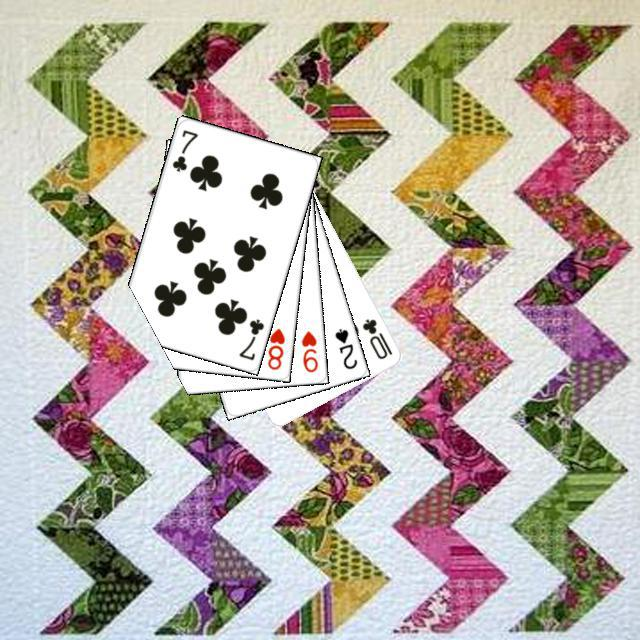10c: (357, 314, 394, 361)
2s: (330, 324, 359, 371)
7c: (167, 125, 200, 174), (234, 314, 266, 362)
8h: (262, 323, 286, 372)
9h: (296, 326, 320, 374)
